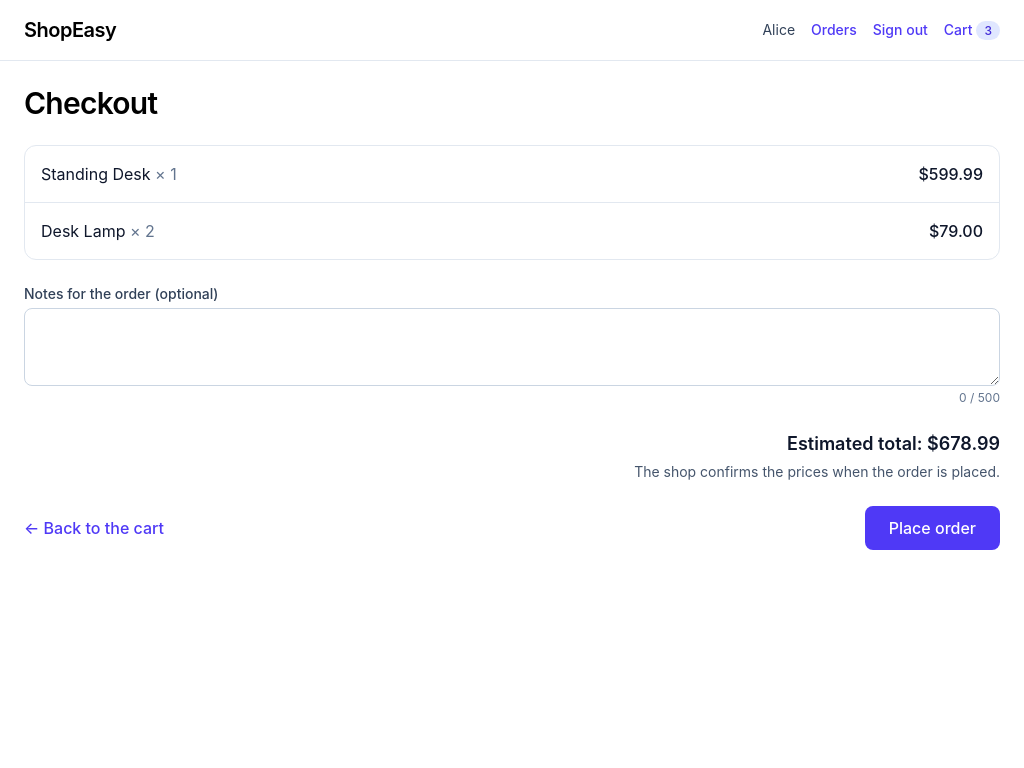
Scenario: CheckoutPage › asks to sign in again when the session ended
Click the button "Place order": x=932, y=528 [865,506,1000,550]
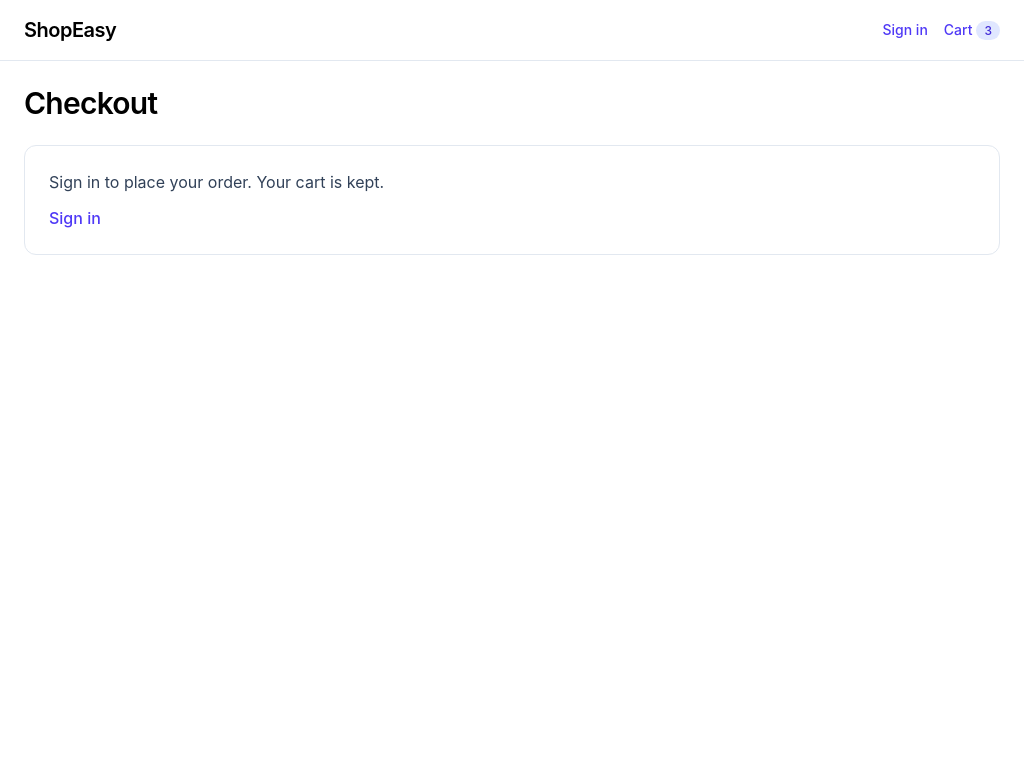
Expected: the text "Sign in to place your order. Your cart is kept." is shown, [49,170,384,194]
